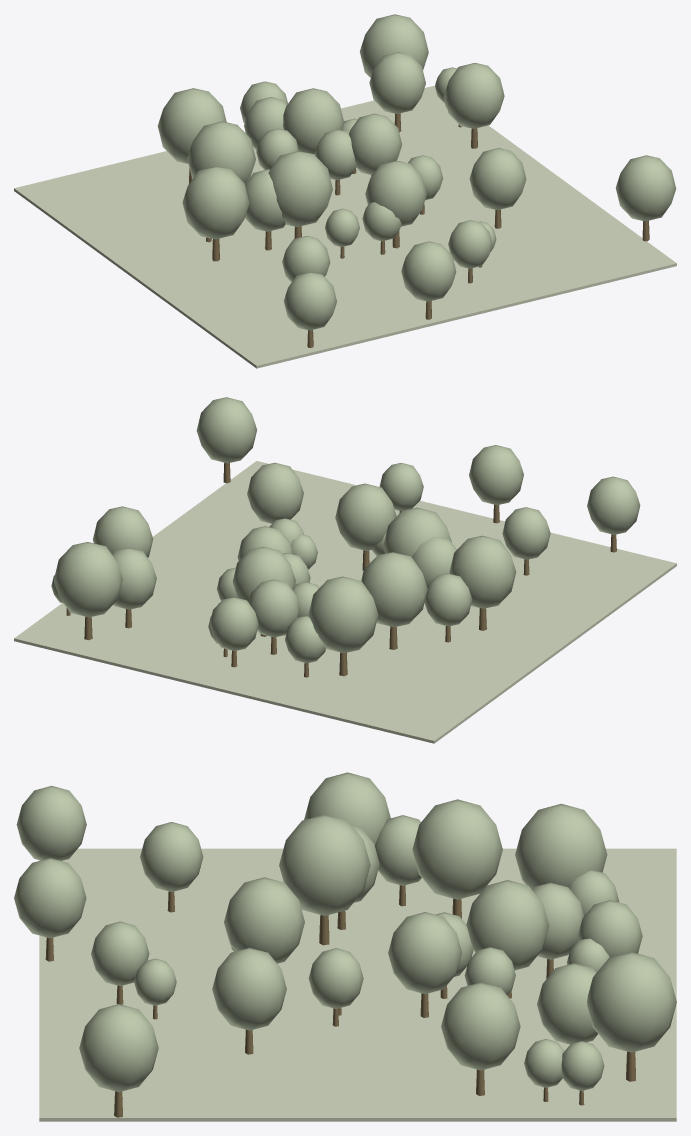
The picture shows the model from 3 angles, top to bottom: view 1: azimuth 30°, elevation 25°; view 2: azimuth 150°, elevation 25°; view 3: azimuth 270°, elevation 25°; orthographic projection. The views are drawn at different scales.
Parts seen in each view (by area): view 1: terrain, lod-near-10, lod-near-6, lod-near-25, lod-near-21, lod-near-14, lod-near-31, lod-near-9, lod-near-27, lod-near-16, lod-near-2, lod-near-28 (+13 smaller); view 2: terrain, lod-near-14, lod-near-28, lod-near-31, lod-near-10, lod-near-25, lod-near-9, lod-near-27, lod-near-18, lod-near-11, lod-near-30, lod-near-21 (+12 smaller); view 3: terrain, lod-near-6, lod-near-28, lod-near-31, lod-near-14, lod-near-21, lod-near-25, lod-near-16, lod-near-9, lod-near-27, lod-near-23, lod-near-18 (+17 smaller).
Part boxes in pixels (x1=…): terrain: x1=14, y1=86, x2=676, y2=368; lod-near-10: x1=182, y1=166, x2=249, y2=239; lod-near-6: x1=268, y1=151, x2=332, y2=226; lod-near-25: x1=615, y1=155, x2=676, y2=221; lod-near-21: x1=444, y1=63, x2=504, y2=128; lod-near-14: x1=157, y1=88, x2=226, y2=163; lod-near-31: x1=187, y1=121, x2=255, y2=183; lod-near-9: x1=365, y1=160, x2=426, y2=226; lod-near-27: x1=469, y1=148, x2=526, y2=209; lod-near-16: x1=283, y1=88, x2=344, y2=154; lod-near-2: x1=369, y1=52, x2=425, y2=113; lod-near-28: x1=359, y1=14, x2=428, y2=78; terrain: x1=14, y1=461, x2=676, y2=743; lod-near-14: x1=308, y1=576, x2=378, y2=652; lod-near-28: x1=54, y1=542, x2=122, y2=617; lod-near-31: x1=361, y1=552, x2=427, y2=627; lod-near-10: x1=449, y1=535, x2=516, y2=608; lod-near-25: x1=196, y1=397, x2=256, y2=463; lod-near-9: x1=335, y1=483, x2=396, y2=550; lod-near-27: x1=247, y1=462, x2=303, y2=523; lod-near-18: x1=469, y1=445, x2=523, y2=504; lod-near-11: x1=587, y1=476, x2=640, y2=534; lod-near-30: x1=249, y1=579, x2=300, y2=637; lod-near-21: x1=93, y1=506, x2=153, y2=557; terrain: x1=39, y1=848, x2=676, y2=1121; lod-near-6: x1=279, y1=814, x2=370, y2=915; lod-near-28: x1=587, y1=952, x2=676, y2=1052; lod-near-31: x1=412, y1=799, x2=502, y2=899; lod-near-14: x1=515, y1=803, x2=607, y2=888; lod-near-21: x1=441, y1=982, x2=520, y2=1070; lod-near-25: x1=79, y1=1004, x2=158, y2=1091; lod-near-16: x1=466, y1=880, x2=549, y2=970; lod-near-9: x1=224, y1=877, x2=304, y2=963; lod-near-27: x1=212, y1=947, x2=286, y2=1030; lod-near-23: x1=388, y1=912, x2=462, y2=994; lod-near-18: x1=14, y1=858, x2=86, y2=938.
Bounding box in the file's own units: 33.95 × 7.31 × 33.29.
